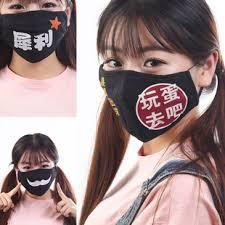OK: (102, 42, 196, 139), (1, 1, 71, 64), (19, 158, 59, 197)
